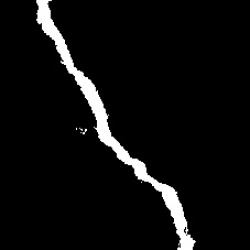crack: (32, 0, 194, 250)
